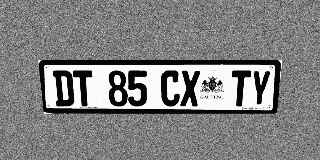5: (128, 70, 147, 106)
8: (108, 70, 128, 106)
C: (161, 70, 180, 106)
D: (53, 70, 75, 106)
T: (73, 70, 94, 106), (230, 70, 251, 106)
X: (180, 70, 200, 106)
Y: (249, 70, 271, 106)
